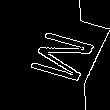M_E: (14, 24, 96, 86)
